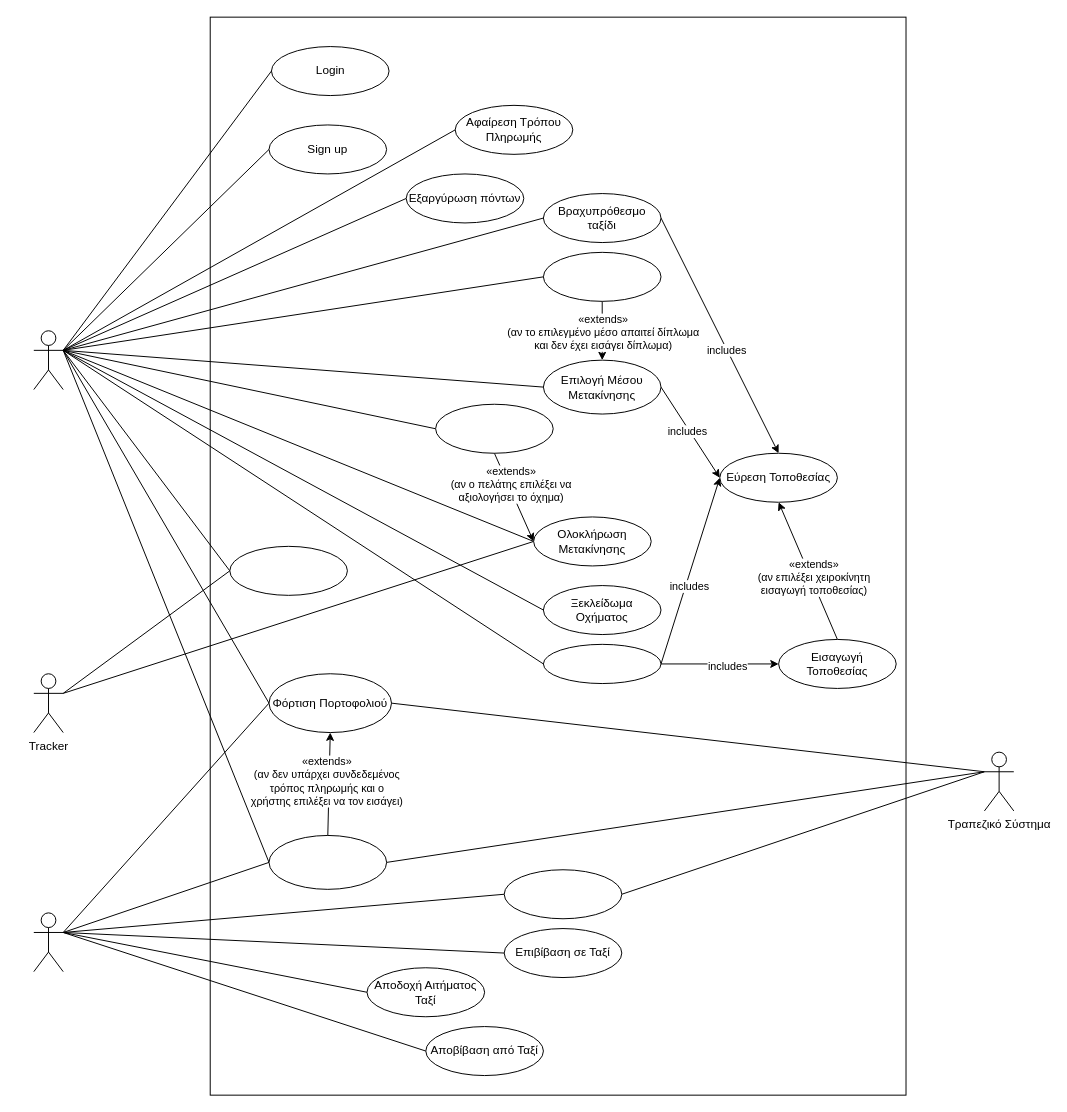
Image size: 1067x1112. Some labels were removed from this diagram. Each missing label, with the centre of its shape:
"Ανεφοδιασμός Οχήματος" goes at (x=288, y=570).
"Αξιολόγηση" goes at (x=494, y=428).
"Εισαγωγή Διπλώματος Οδήγησης" goes at (x=601, y=276).
"Επιλογή Ταξί" goes at (x=601, y=663).
"Οδηγός Ταξί" goes at (x=48, y=942).
"Πελάτης" goes at (x=48, y=360).
"Πληρωμή οδηγού ταξί" goes at (x=562, y=894).
"Προσθήκη Τρόπου Πληρωμής" goes at (x=327, y=861).
